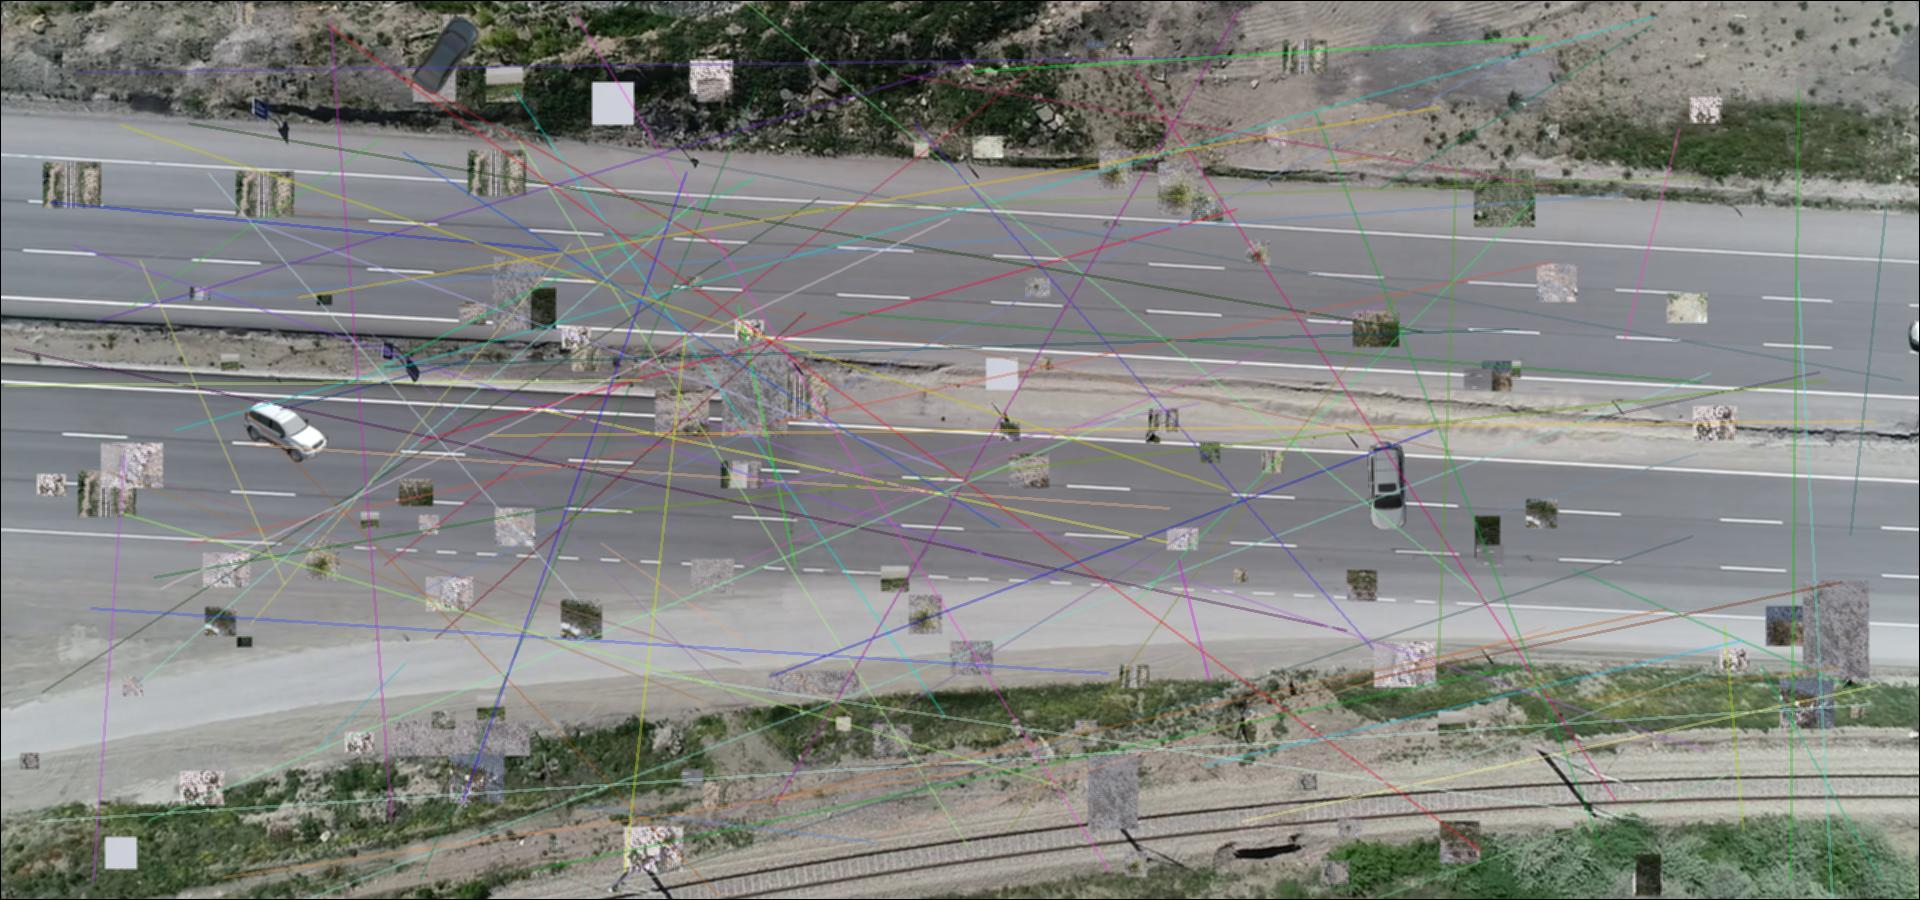arac: (405, 15, 480, 96), (242, 398, 328, 463), (1365, 441, 1408, 529)
